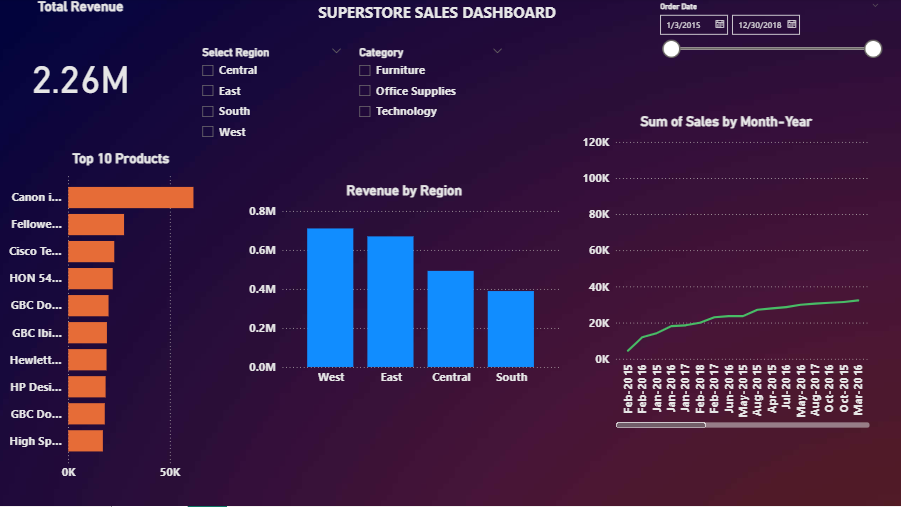

This screenshot's page, from the dashboard's own definition file:
{"tool":"powerbi","page":{"name":"Page 1","canvas":[1280,720],"ordinal":0},"visuals":[{"type":"card","title":"Total Revenue","fields":{"Values":["Sum(Superstore.Sales)"]},"box":[0,0,237.1,192.9],"z":0},{"type":"clusteredBarChart","title":"Top 10 Products","fields":{"Category":["Superstore.Product Name"],"Y":["Sum(Superstore.Sales)"]},"box":[0,215.7,351.4,477.1],"z":1000},{"type":"clusteredColumnChart","title":"Revenue by Region","fields":{"Category":["Superstore.Region"],"Y":["Sum(Superstore.Sales)"]},"box":[351.4,261.4,451.4,297.1],"z":2000},{"type":"lineChart","fields":{"Category":["Superstore.Month-Year"],"Y":["Sum(Superstore.Sales)"]},"box":[824.3,162.9,417.1,451.4],"z":3000},{"type":"slicer","fields":{"Values":["Superstore.Region"]},"box":[277.1,62.9,222.9,152.9],"z":4000},{"type":"slicer","fields":{"Values":["Superstore.Category"]},"box":[500,62.9,228.6,138.6],"z":5000},{"type":"slicer","fields":{"Values":["Superstore.Order Date"]},"box":[927.1,0,335.7,132.9],"z":6000},{"type":"textbox","box":[424.3,0,400,62.9],"z":6001}]}

Visuals, with their boxes in screenshot pixels (x1, y1, x2, y2), scaled from the page's 1280x720 canvas onto the 901x507 screenshot:
"Total Revenue" card: 0:0:167:136
"Top 10 Products" clusteredBarChart: 0:152:247:488
"Revenue by Region" clusteredColumnChart: 247:184:565:393
lineChart - Superstore.Month-Year x Sum(Superstore.Sales): 580:115:874:433
slicer - Superstore.Region: 195:44:352:152
slicer - Superstore.Category: 352:44:513:142
slicer - Superstore.Order Date: 653:0:889:94
textbox: 299:0:580:44
